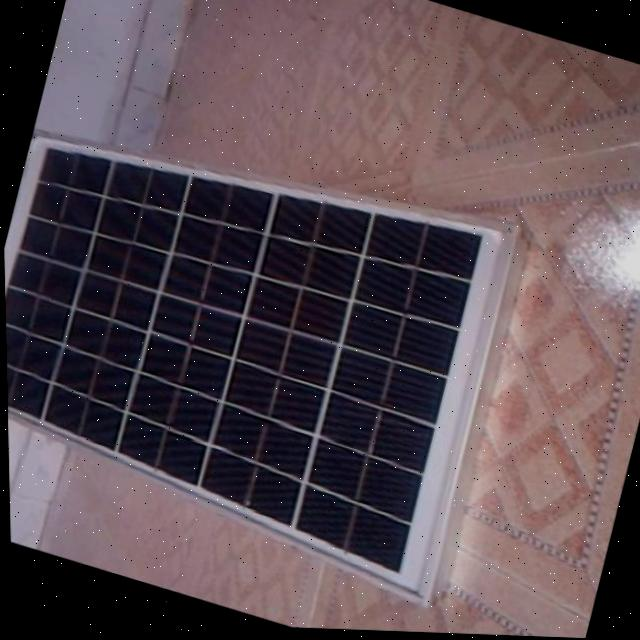Normal Solar Panel: (0, 85, 540, 615)
